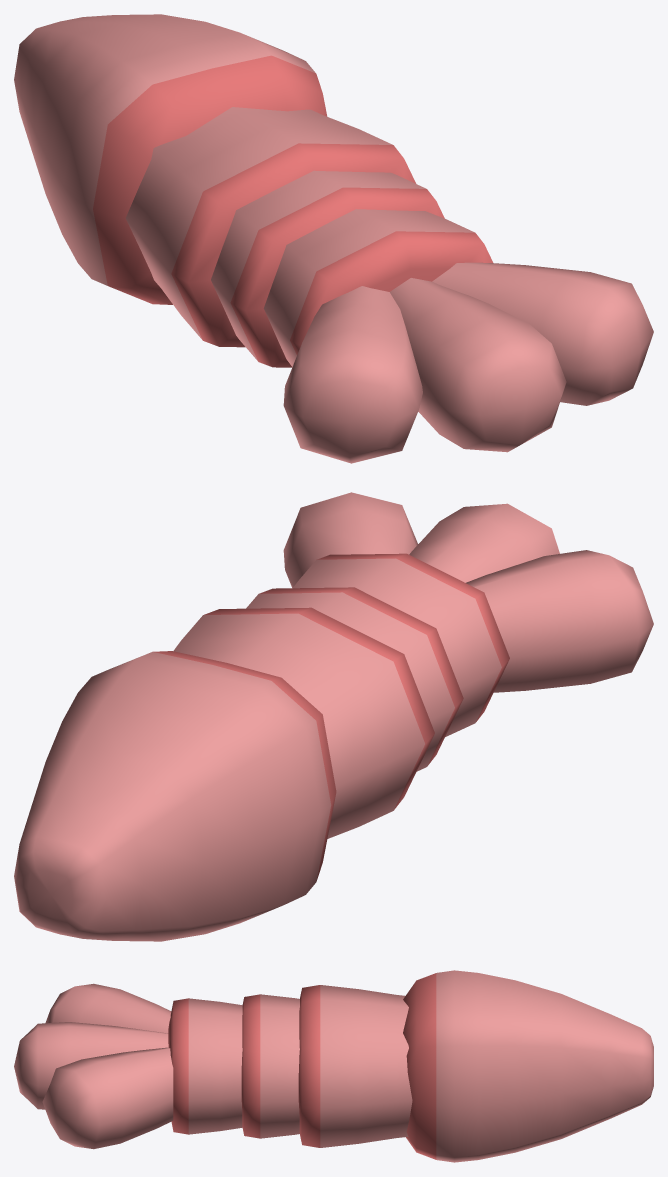
Rendered from Lobster_1_Peeled_1.fbx.
The picture shows the model from 3 angles, top to bottom: view 1: azimuth 30°, elevation 25°; view 2: azimuth 150°, elevation 25°; view 3: azimuth 270°, elevation 25°; orthographic projection. The views are drawn at different scales.
Parts seen in each view (by area): view 1: Lobster_1_Peeled_1; view 2: Lobster_1_Peeled_1; view 3: Lobster_1_Peeled_1.
Part boxes in pixels (x1,y1,x2,y2): Lobster_1_Peeled_1: (14,14,653,463); Lobster_1_Peeled_1: (14,492,653,941); Lobster_1_Peeled_1: (14,970,653,1162).
Size of the model in its own units: 22.02 by 13.52 by 50.9.
